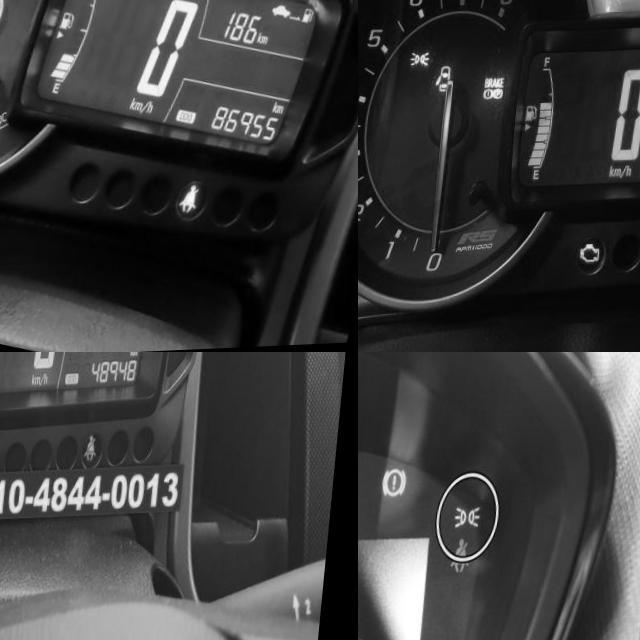Doors: (440, 66, 457, 93)
SideLamp: (459, 507, 487, 532), (413, 51, 434, 70)
